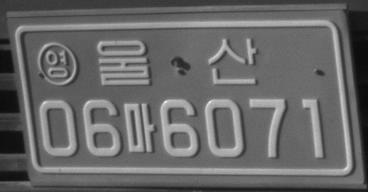0: (203, 97, 246, 158), (38, 99, 78, 157)
1: (295, 98, 332, 157)
6: (81, 98, 122, 158), (159, 98, 200, 158)
7: (249, 97, 287, 158)
마: (123, 102, 156, 152)
영: (37, 42, 79, 87)
울산_D: (96, 36, 258, 85)
